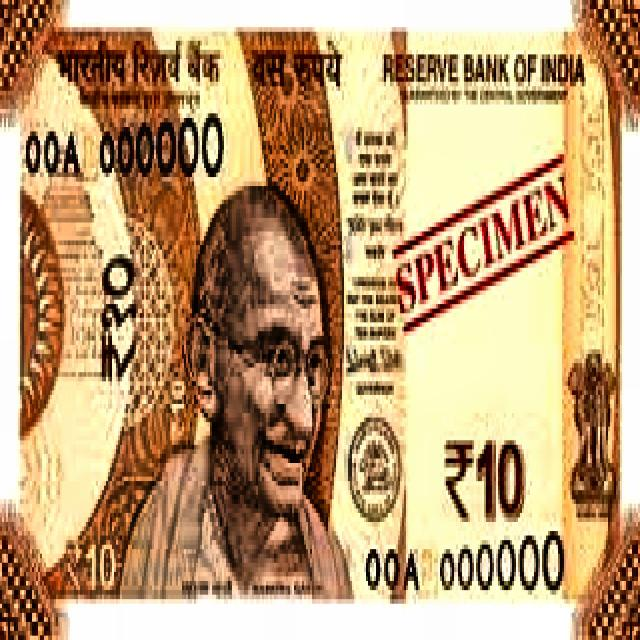-10-: (6, 11, 632, 616)
